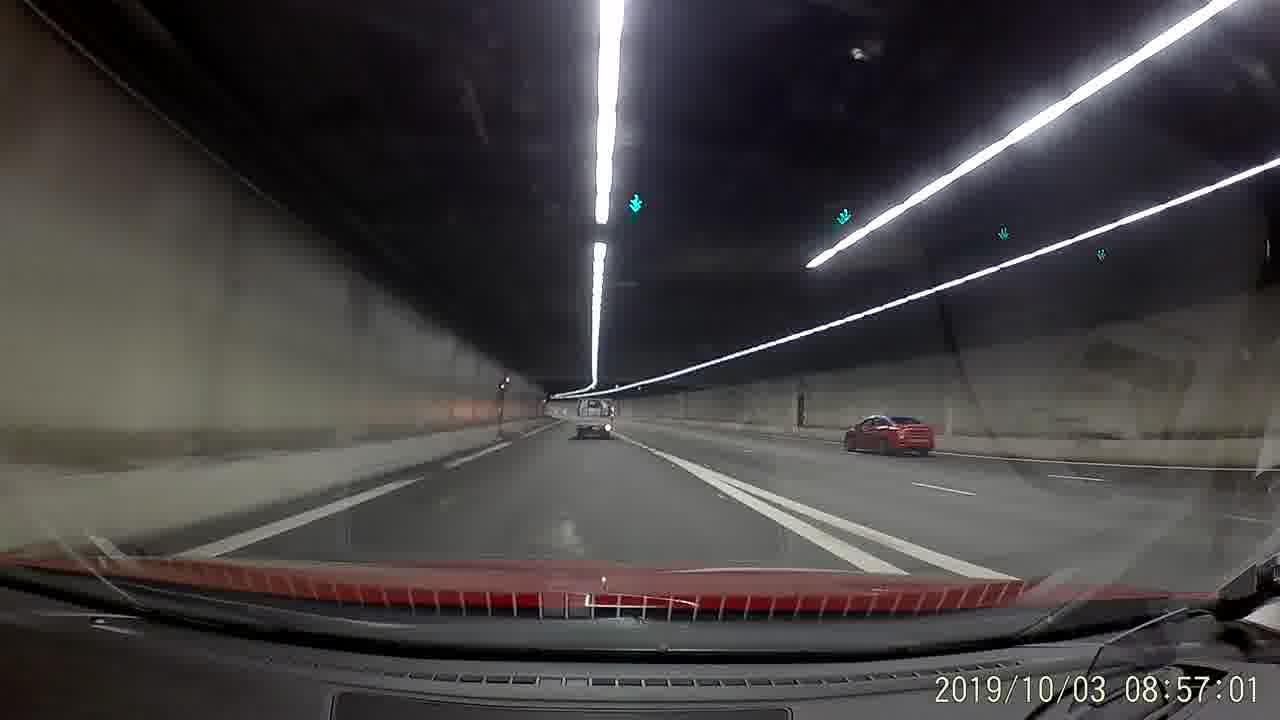car: (840, 411, 936, 458)
